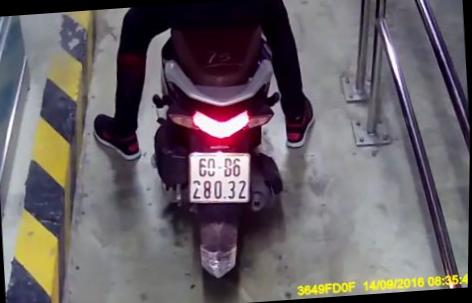LP: (186, 147, 254, 206)
